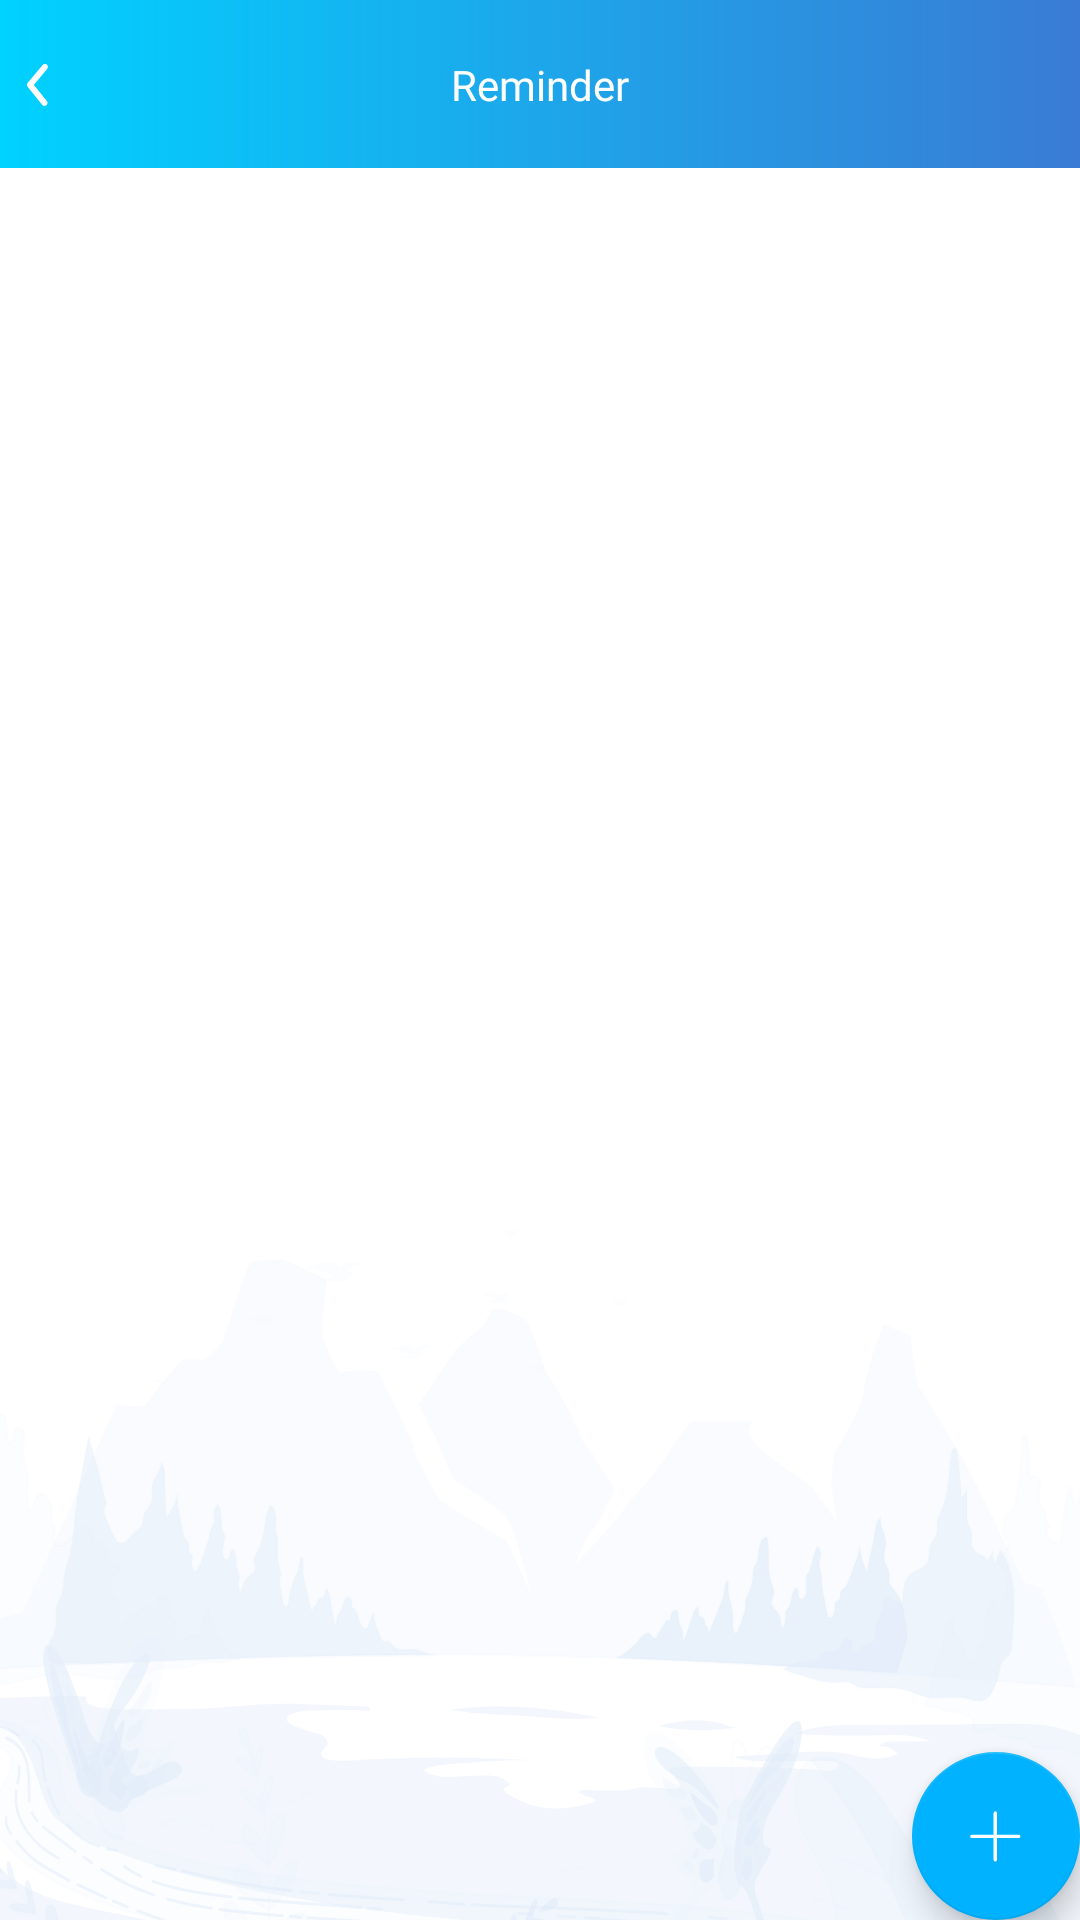

Icons on this 1080 × 1920 Android screen, each with its box as (x1, y1, x2, y2):
add a reminder: (912, 1752, 1080, 1920)
registration back: (27, 64, 48, 106)
